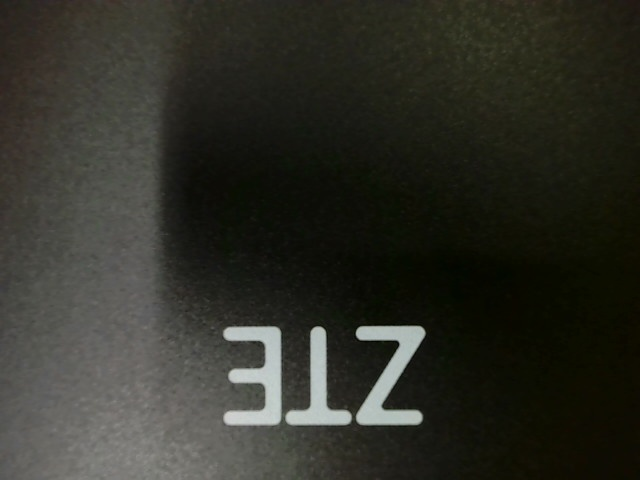AN_ZTE: (214, 313, 430, 435)
